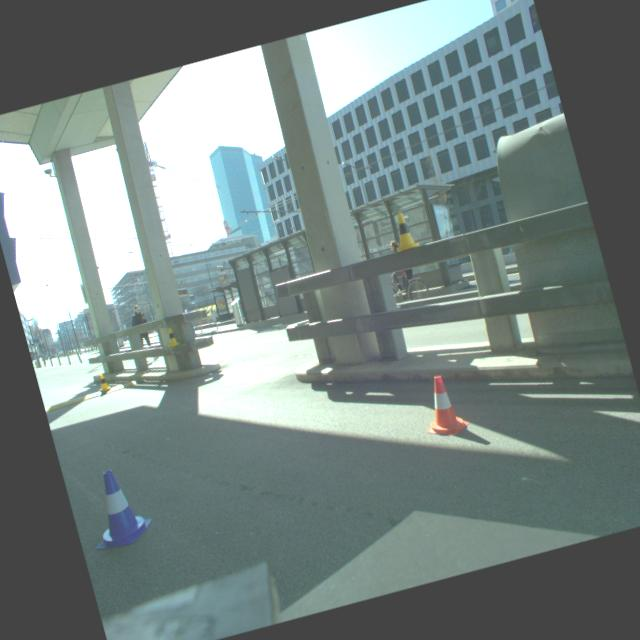blue_cone: (78, 462, 156, 552)
orange_cone: (412, 370, 472, 441)
yellow_cone: (387, 209, 419, 252), (95, 372, 112, 392), (164, 326, 179, 347)
